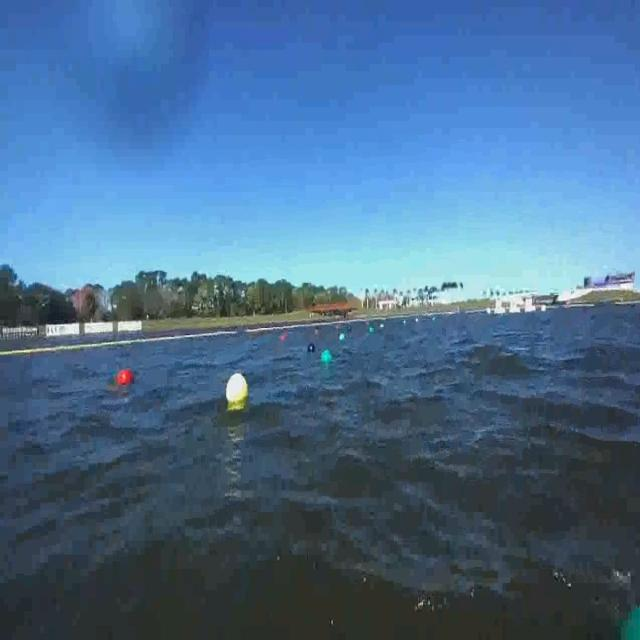black-buoy: (306, 344, 314, 354)
green-buoy: (610, 598, 640, 639), (322, 350, 332, 366)
red-buoy: (118, 368, 134, 385)
yellow-buoy: (226, 371, 247, 402)
